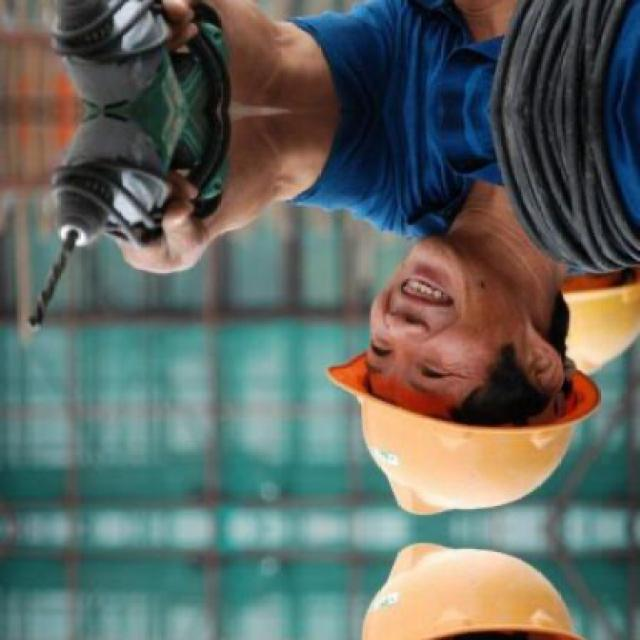con casco: (266, 217, 634, 550)
